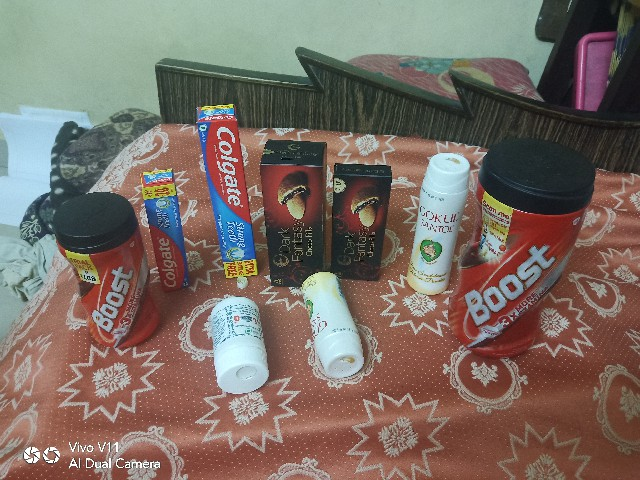boost big: (448, 139, 609, 357)
boost small: (51, 176, 150, 371)
colgatetoothpaste big: (192, 78, 257, 287)
colgatetoothpaste small: (140, 129, 188, 299)
darkfantasy big: (251, 131, 326, 286)
darkfantasy small: (331, 150, 391, 283)
gokulsantol big: (406, 135, 472, 311)
gokulsantol small: (301, 269, 375, 391)
lgasafoetidapowder small: (198, 289, 273, 396)
